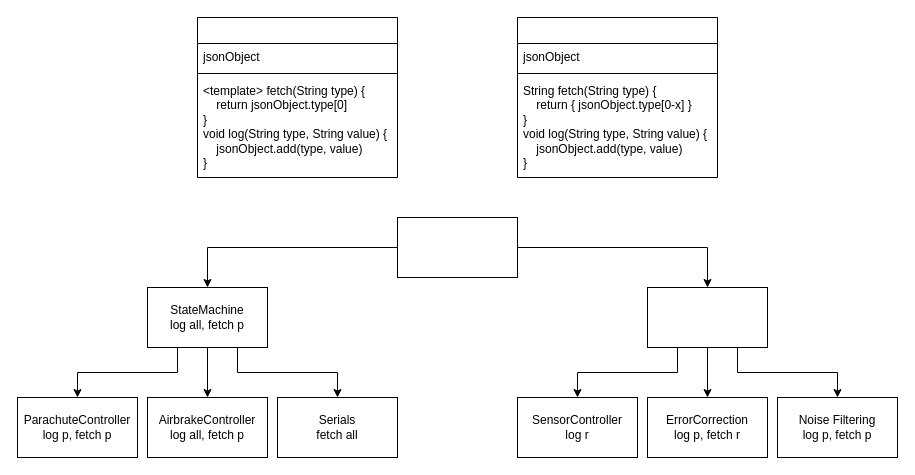
Image size: 915x475. Some labels were removed from this diagram. The shapes that lost their labels are listed below. From the top down, each one's box as (x1, y1, x2, y2) in pixels, then its label:
(196, 16, 398, 178): ProcessedData
(516, 16, 718, 178): RawData
(396, 216, 518, 278): FlightController
(646, 286, 768, 348): DataController
